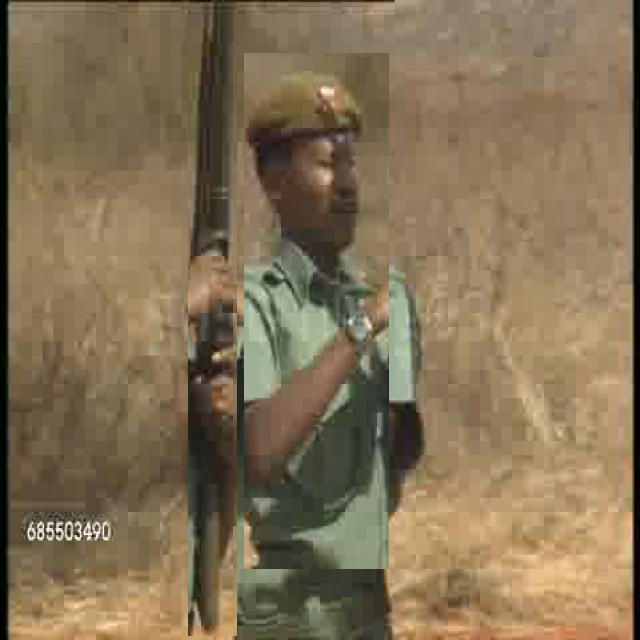poacher: (244, 53, 389, 569)
weapon: (188, 2, 237, 636)
